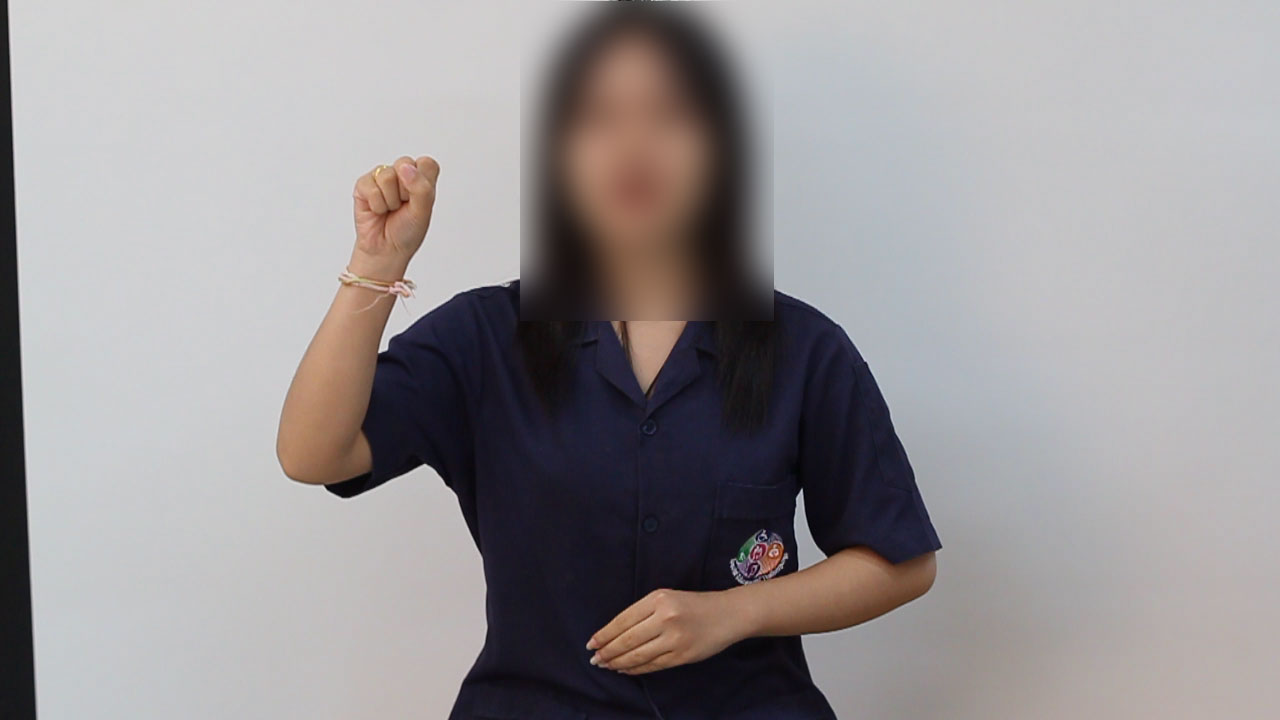sor: (340, 143, 449, 295)
